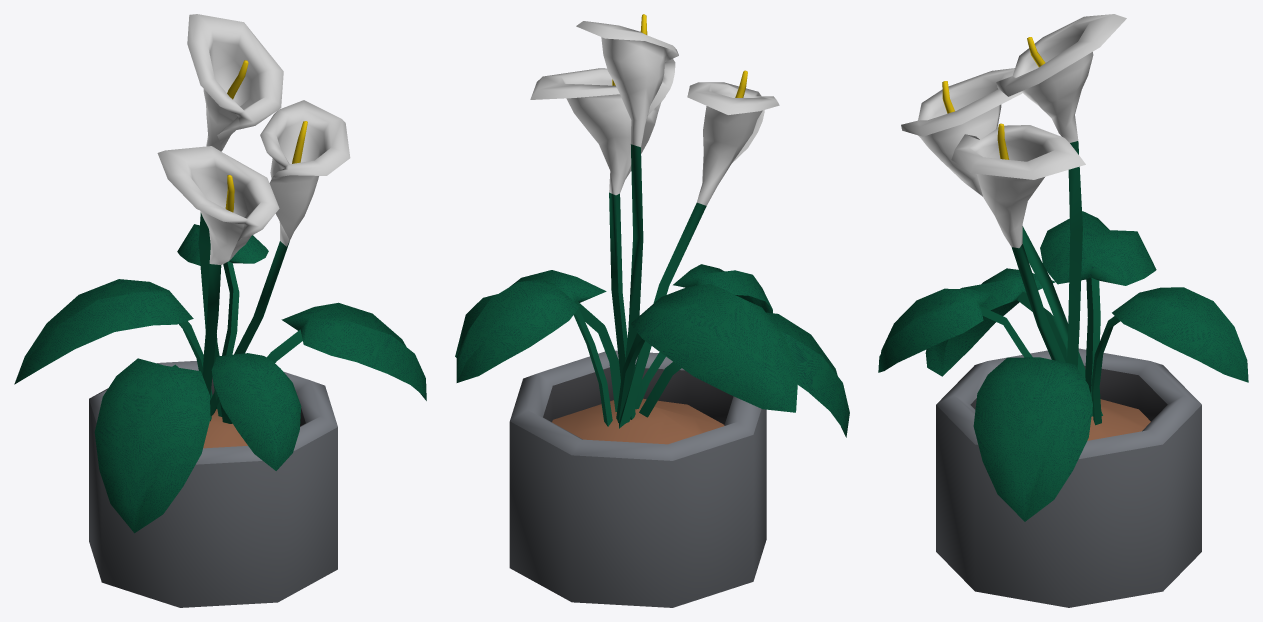
Rendered from Plant31.glb.
3 views of the same model, side by side, from view 1: azimuth 30°, elevation 25°; view 2: azimuth 150°, elevation 25°; view 3: azimuth 270°, elevation 25° (orthographic). The views are drawn at different scales.
Visible parts, largest first — view 1: Plant31; view 2: Plant31; view 3: Plant31.
Part boxes in pixels (box(x1,y1,x2,y2)): Plant31: box(14, 14, 426, 607); Plant31: box(455, 14, 849, 607); Plant31: box(878, 14, 1248, 607).
Size of the model in its own units: 0.8004 by 1.09 by 0.676.
1 material, 1 textured.
